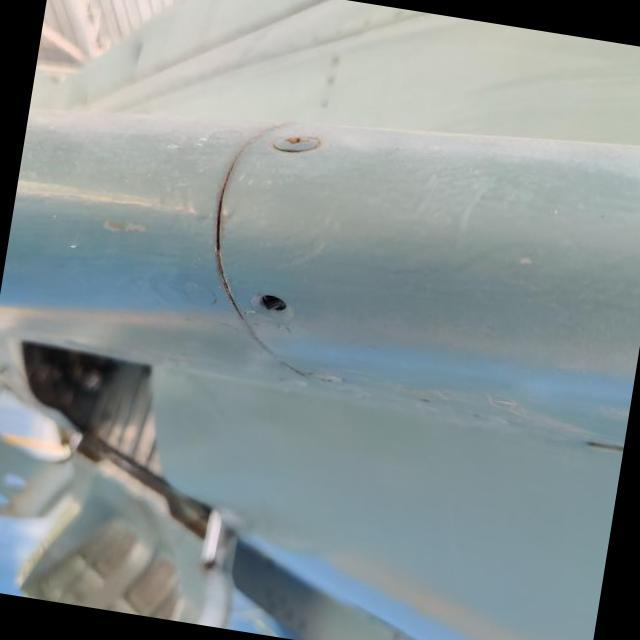Fastener Damage: (222, 259, 320, 350)
